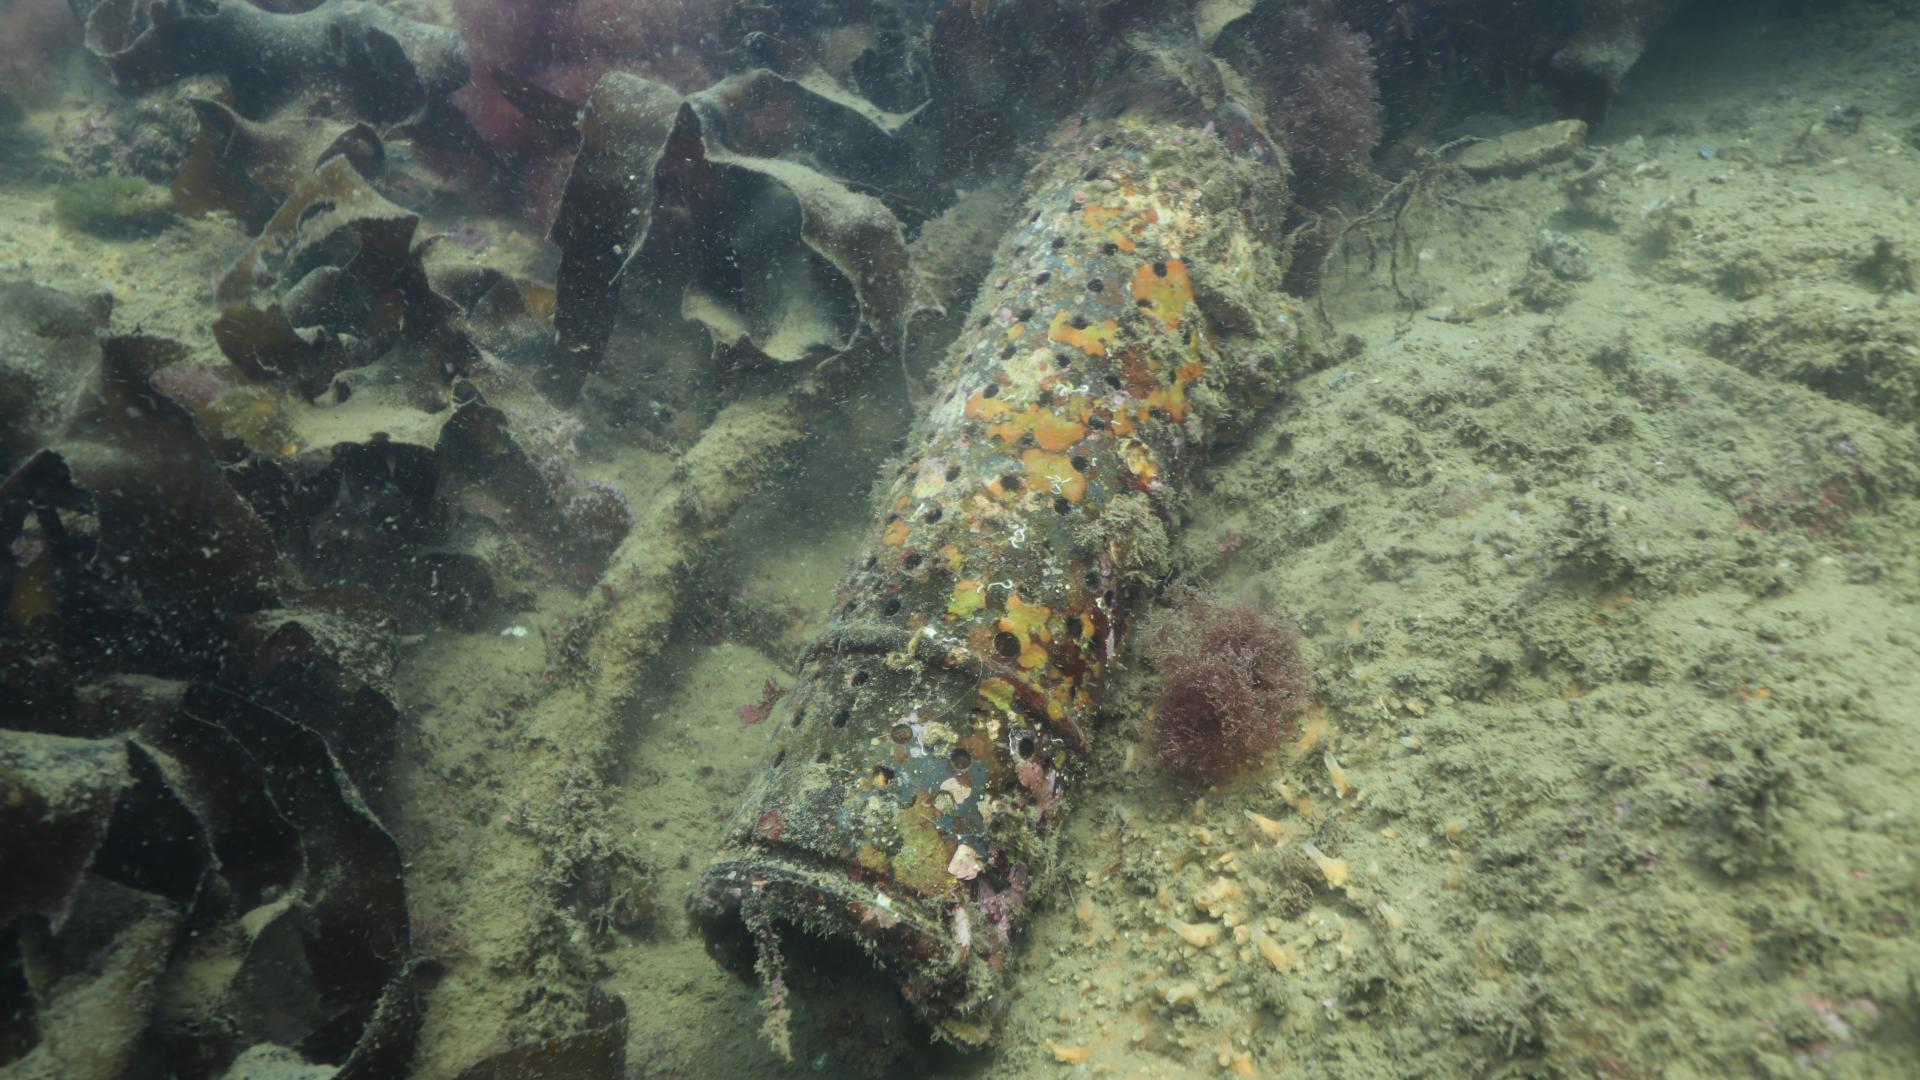eel fish trap: (687, 115, 1286, 1065)
